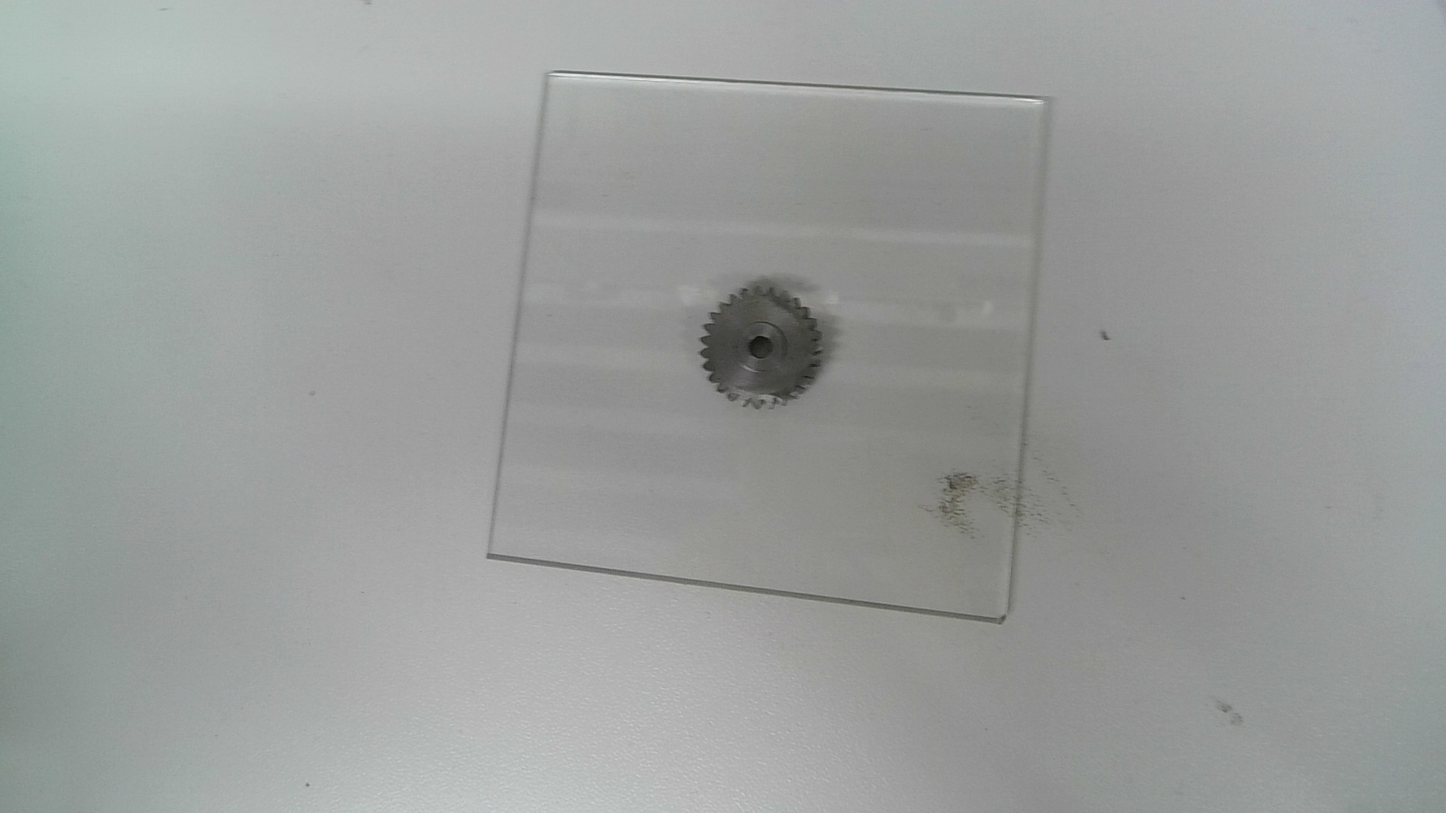gear: (695, 278, 825, 412), (696, 279, 824, 411)
